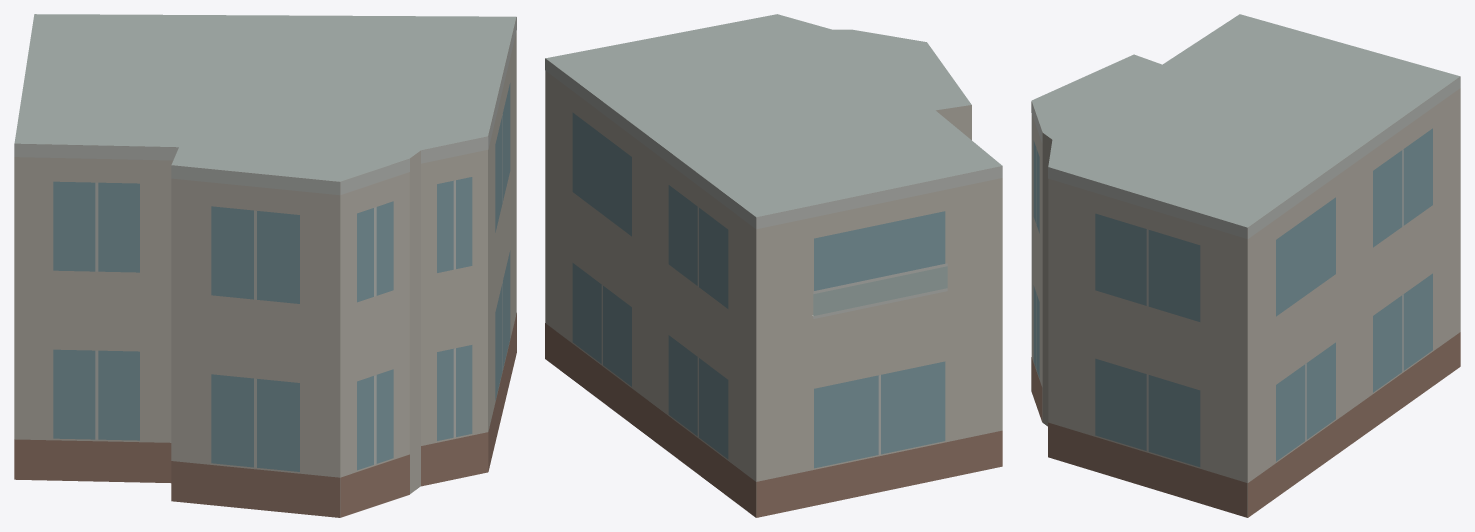
Rendered from survey-upis-32460057.glb.
The picture shows the model from 3 angles, left to right: view 1: azimuth 30°, elevation 25°; view 2: azimuth 150°, elevation 25°; view 3: azimuth 270°, elevation 25°; orthographic projection. The views are drawn at different scales.
Visible parts, largest first — view 1: survey-upis-32460057.tmp; view 2: survey-upis-32460057.tmp; view 3: survey-upis-32460057.tmp.
Boxes of the visible parts, x1=… form: survey-upis-32460057.tmp: x1=14, y1=14, x2=516, y2=517; survey-upis-32460057.tmp: x1=545, y1=14, x2=1002, y2=517; survey-upis-32460057.tmp: x1=1031, y1=14, x2=1460, y2=517.
Size of the model in its own units: 9.64 by 6.1 by 8.18.
